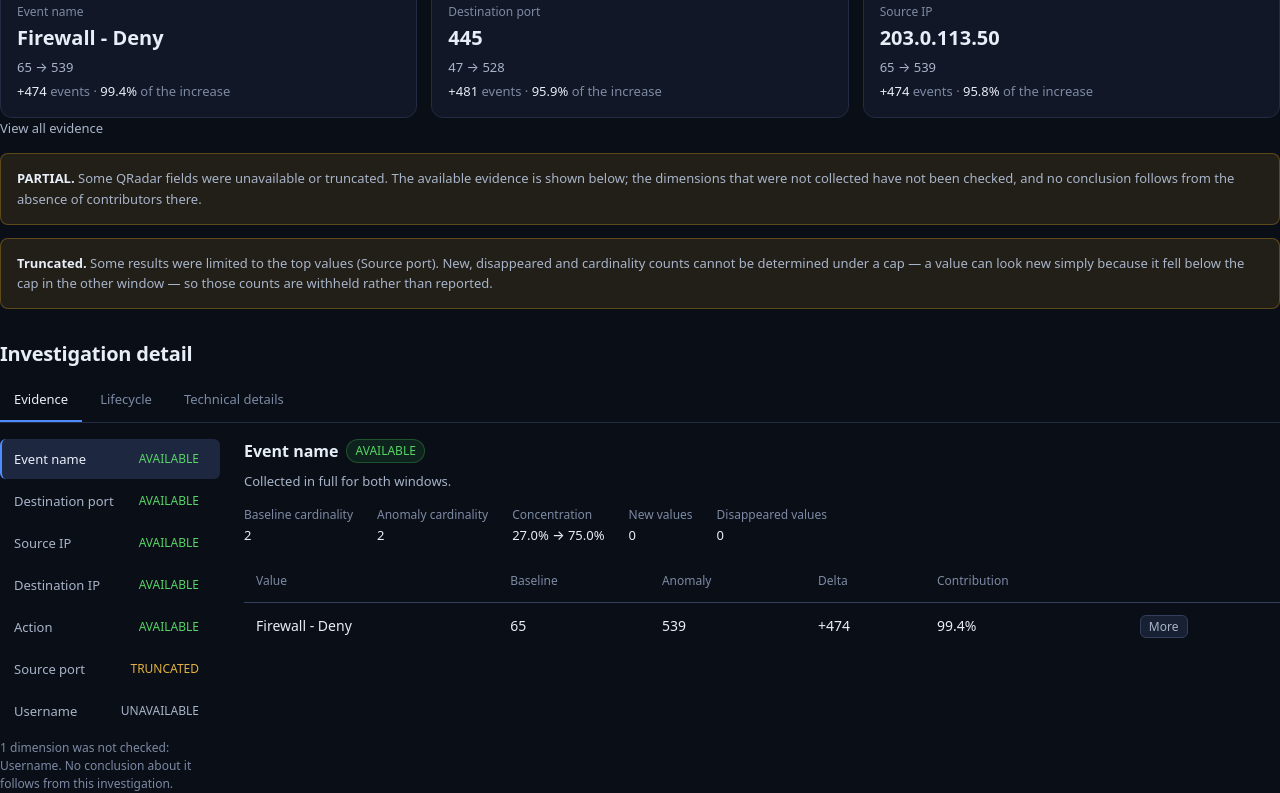
Test: tabs › moves the technical detail behind its tab
(page scrolled)
Click the tab "Technical details": {"x": 234, "y": 400} [170,378,298,422]
(page scrolled)
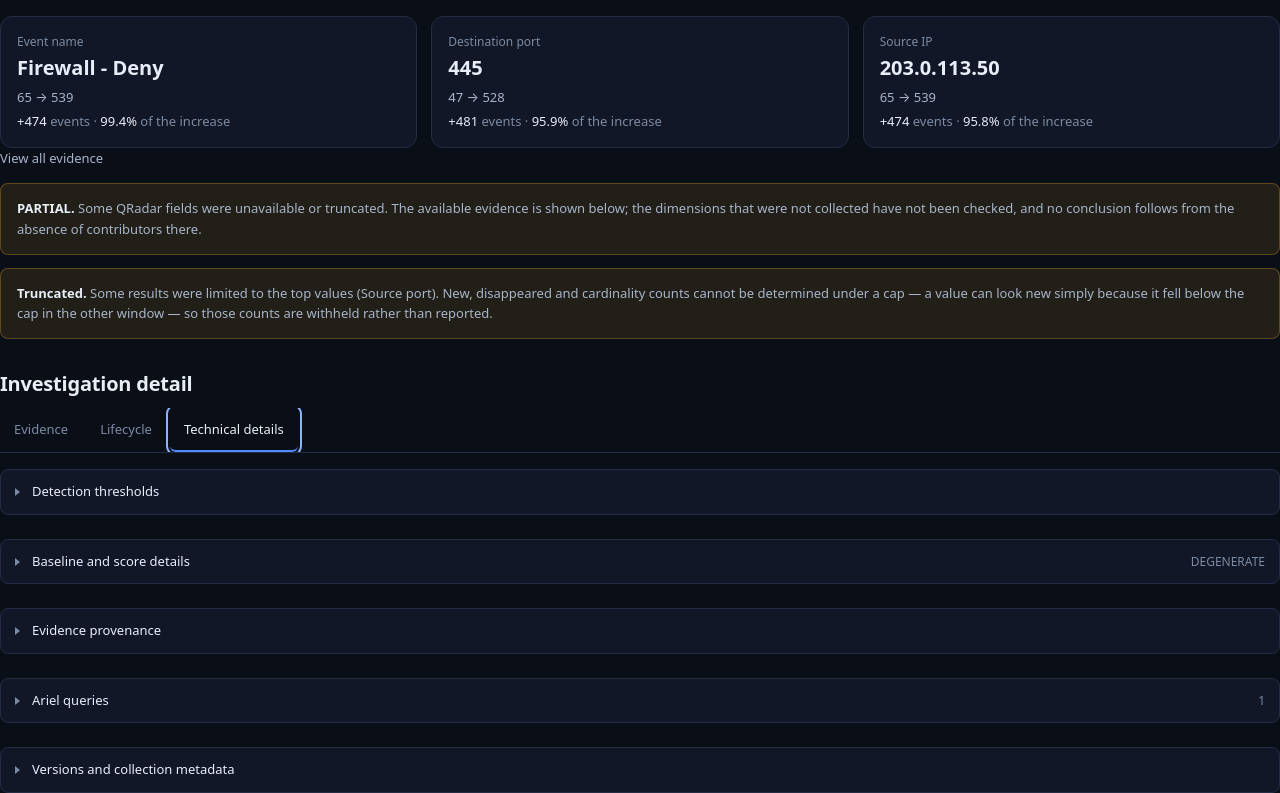
Check: the text "Detection thresholds" is shown, box [32,482,159,500]
Check: the text "Baseline and score details" is shown, box [32,552,190,570]
Check: the text "Evidence provenance" is shown, box [32,621,161,639]
